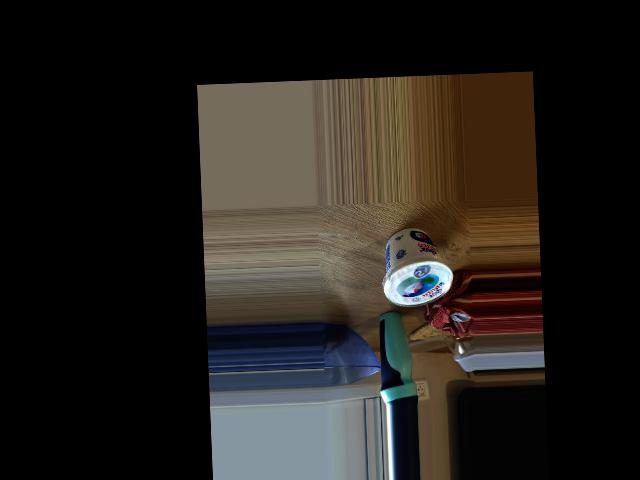cotage: (376, 223, 443, 313)
